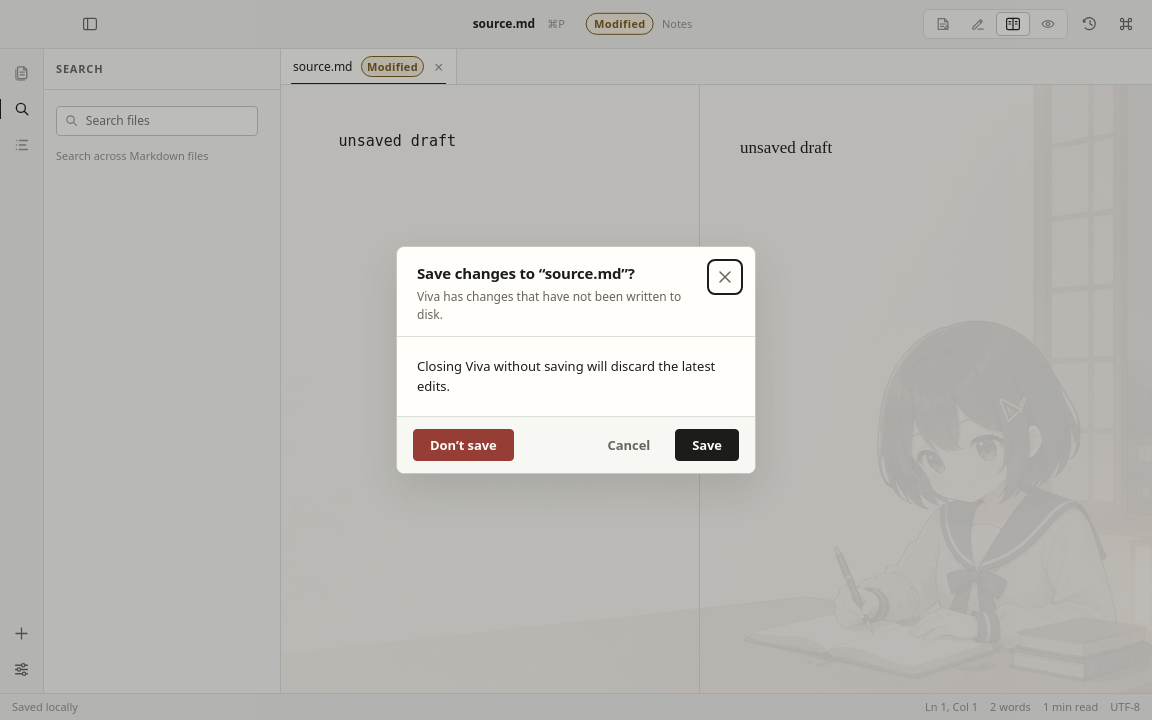
Test: App search navigation › keeps a dirty document open until the user chooses how to quit
The image size is (1152, 720).
Expected: the dialog "Save changes to “source.md”?" is shown, top-left (396, 246), bottom-right (756, 474)
Click the button "Cancel" at (629, 445), box top-left (590, 429), bottom-right (667, 461)
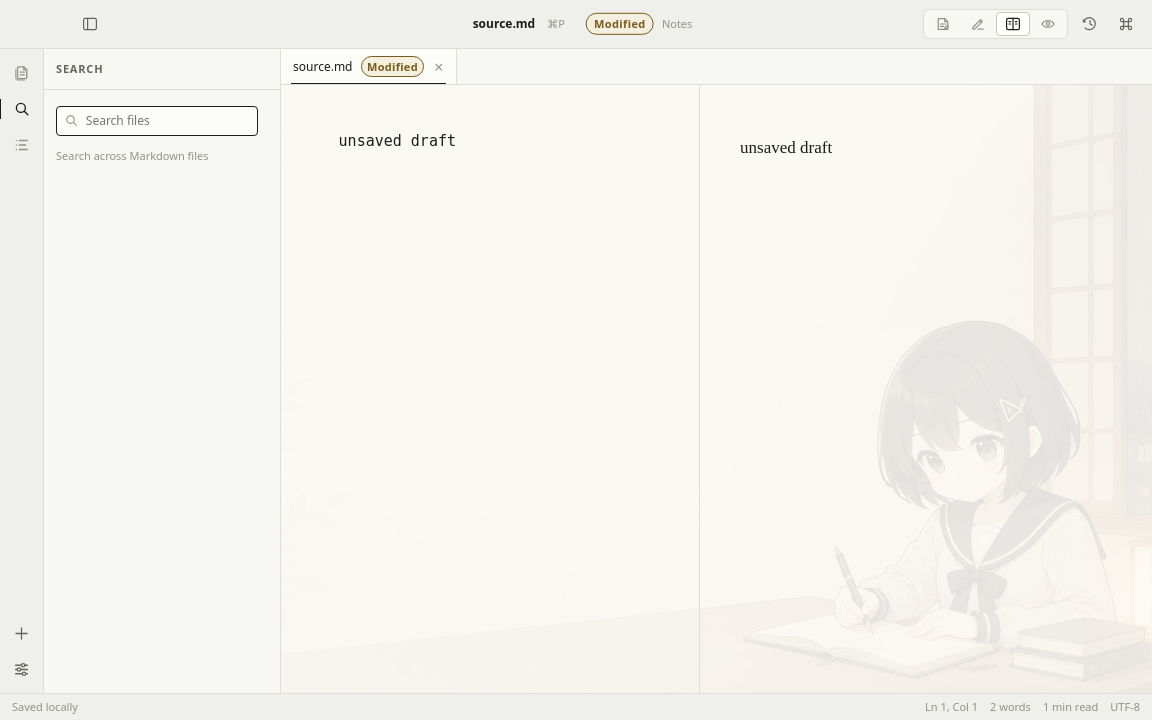
Expected: the dialog is gone
